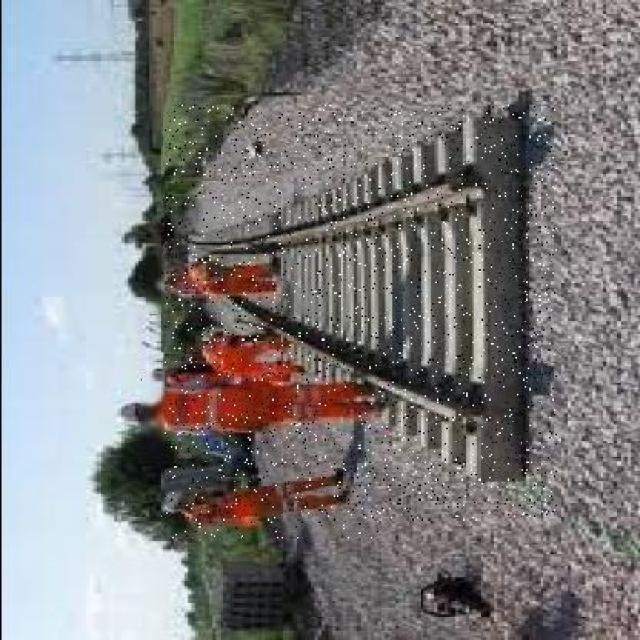rail: (165, 106, 556, 521)
